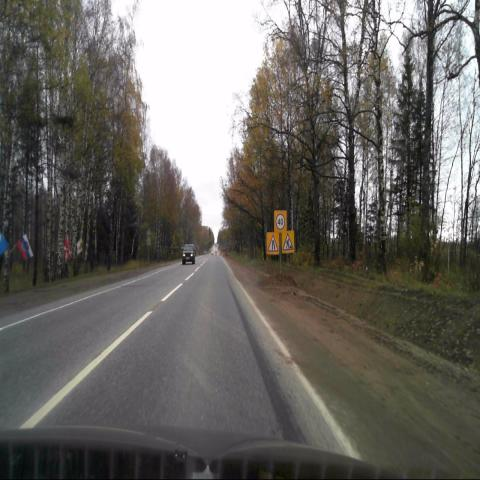3_24: (274, 210, 287, 232)
